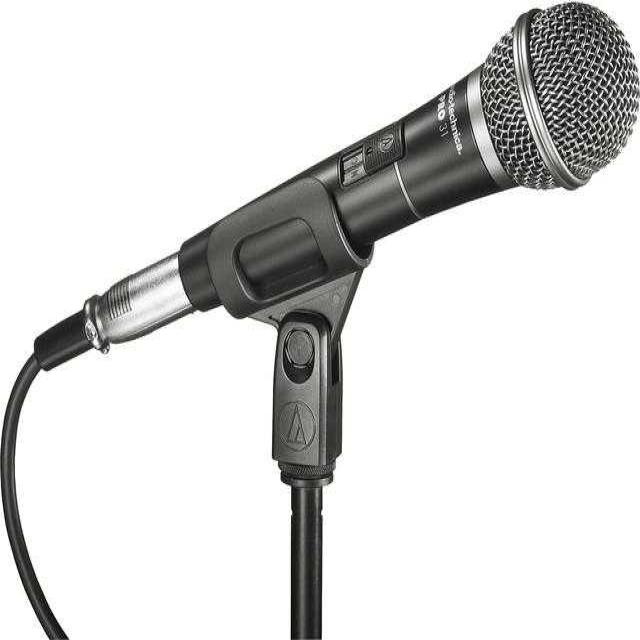microphone: (35, 6, 635, 372)
